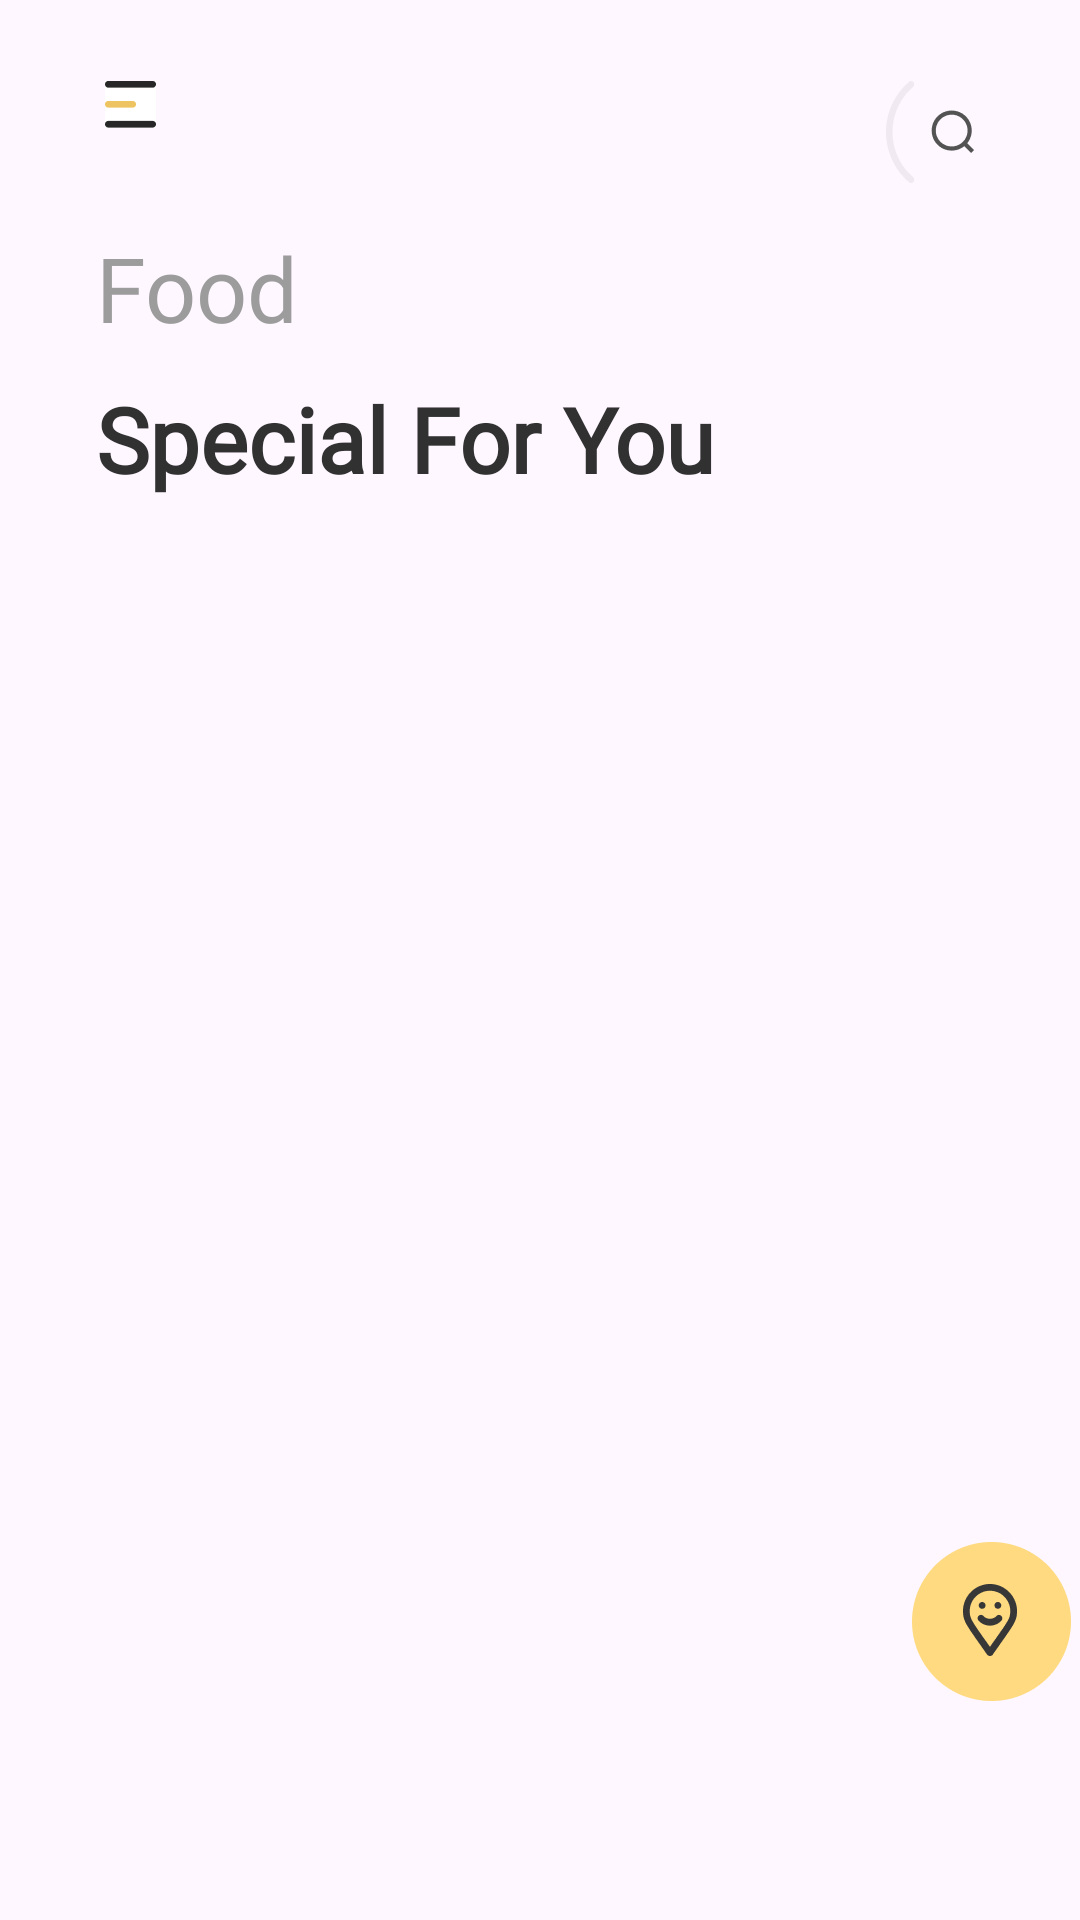

Icons on this 1080×1920 Android screen, each with its box as (x1,y1,x2,y2):
menu: (105,81,156,128)
search: (931,110,974,153)
